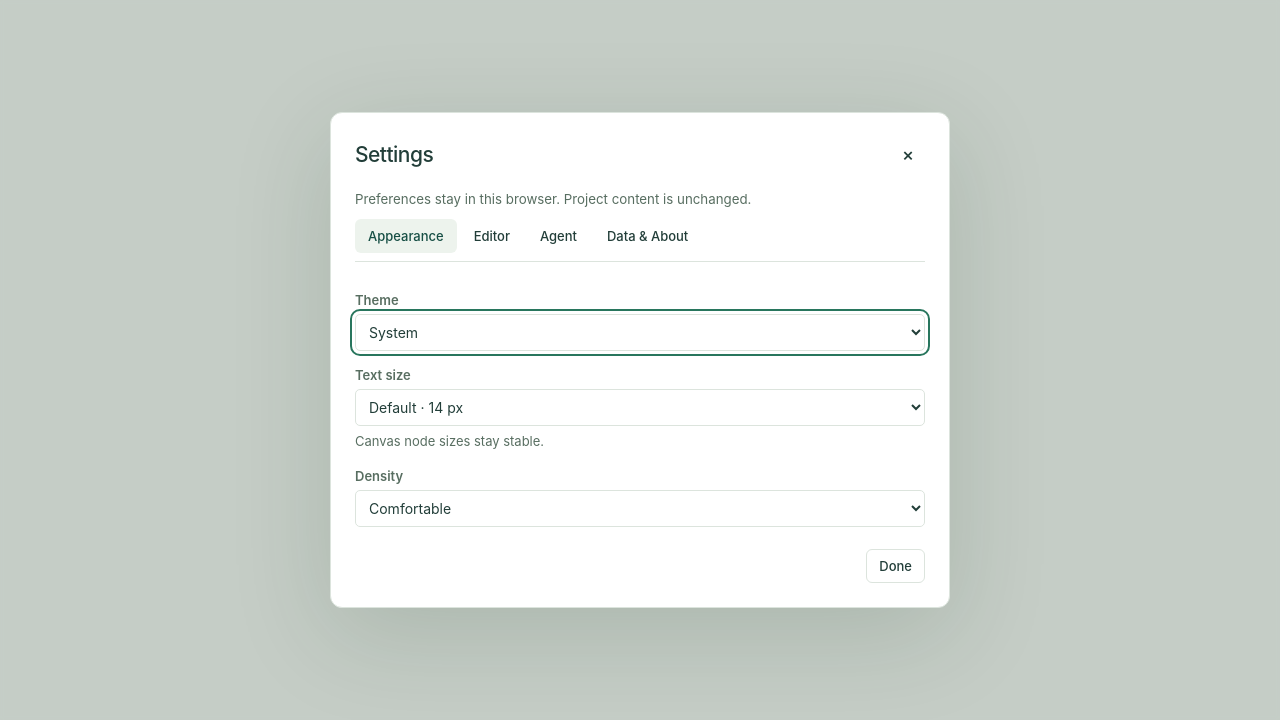
leaves optional delivery off and never prompts when opening Settings or Agent
Click the button "Agent" at (558, 236), box [527,219,590,253]
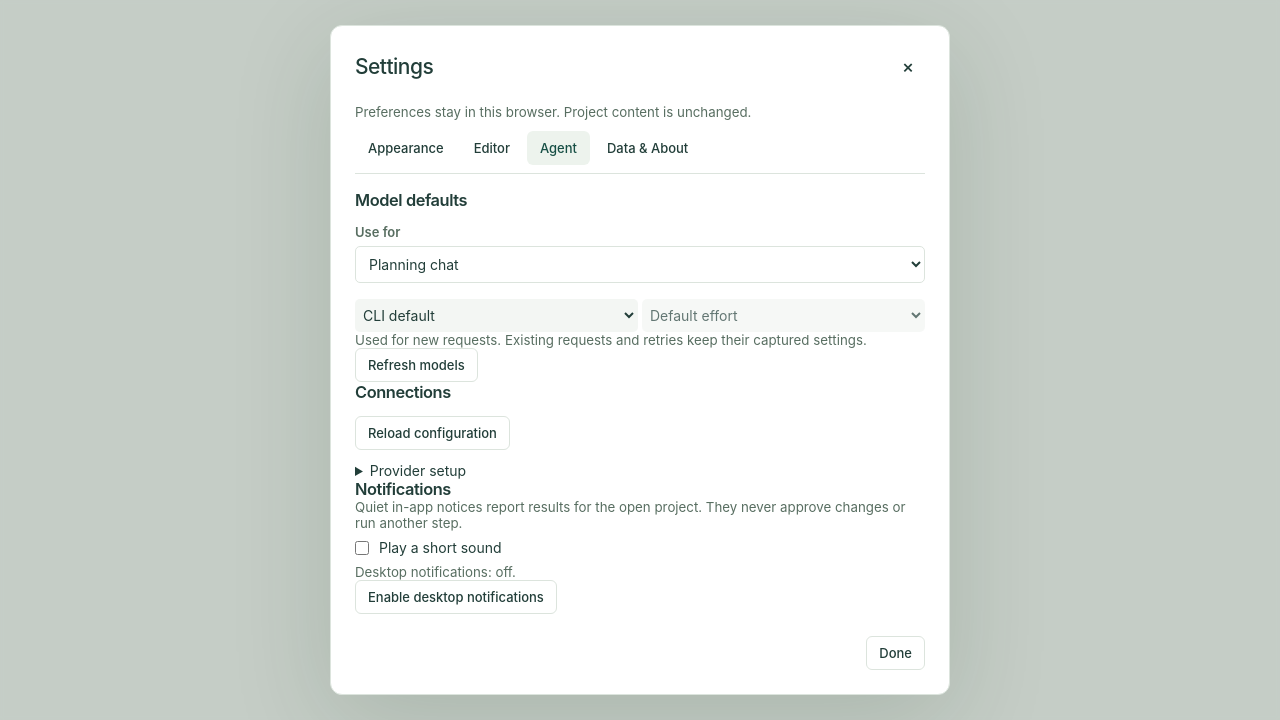
Now the checkbox labelled "Play a short sound" is not checked, box [355,541,369,555]
Now the text "Desktop notifications: off." is shown, box [355,564,516,580]
